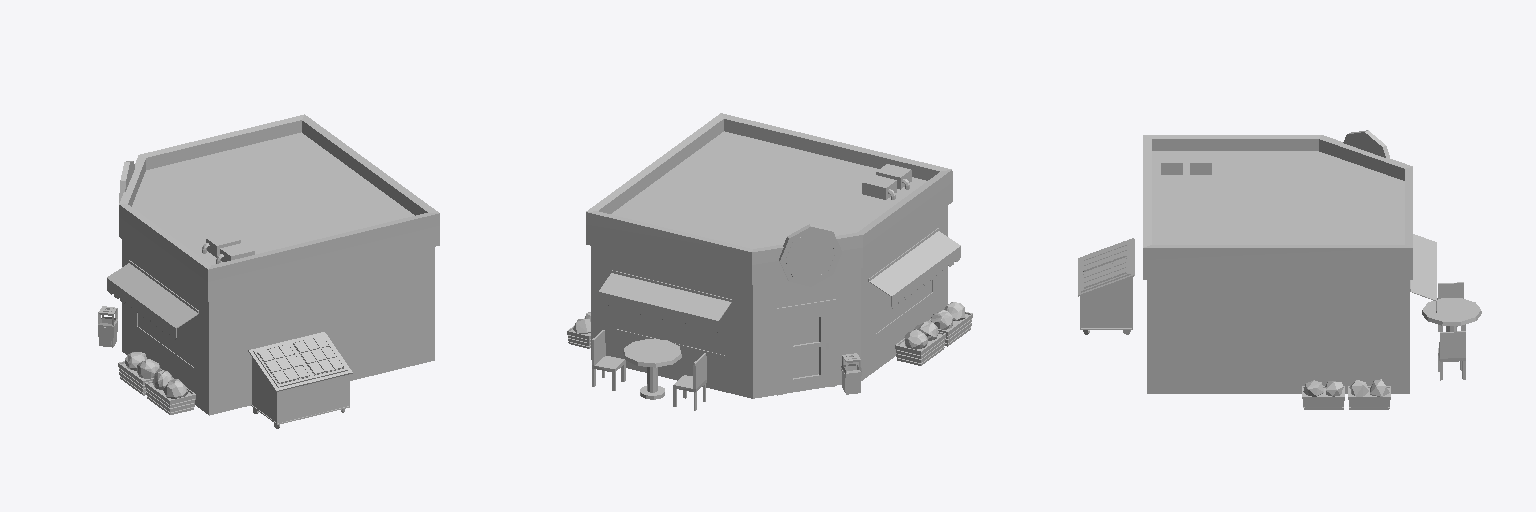
Rendered from caffe1.obj.
The picture shows the model from 3 angles: view 1: azimuth 30°, elevation 25°; view 2: azimuth 150°, elevation 25°; view 3: azimuth 270°, elevation 25°; orthographic projection.
Parts seen in each view (by area): view 1: Tetto.004, Casa, Dumpster, Tenda.004, Vasi_e_Cespugli.001, Bin.004, Cassetta2; view 2: Tetto.004, Casa, Tenda.003, Tenda.004, Logo, Vasi_e_Cespugli.001, Table, Chair2, Chair, Bin.004, Cassetta2, Cassetta; view 3: Tetto.004, Casa, Dumpster, Tenda.003, Table, Vasi_e_Cespugli.007, Chair2, Vasi_e_Cespugli.008, Logo, Cassetta, Cassetta2.
Boxes of the visible parts, x1,y1,x2,y2 form: Tetto.004: [119, 114, 439, 301]; Casa: [122, 240, 434, 415]; Dumpster: [248, 332, 352, 428]; Tenda.004: [107, 260, 198, 340]; Vasi_e_Cespugli.001: [118, 352, 195, 414]; Bin.004: [98, 306, 117, 347]; Cassetta2: [202, 232, 240, 257]; Tetto.004: [586, 113, 952, 284]; Casa: [591, 206, 947, 398]; Tenda.003: [598, 270, 731, 333]; Tenda.004: [868, 228, 960, 308]; Logo: [779, 224, 841, 286]; Vasi_e_Cespugli.001: [895, 302, 972, 365]; Table: [623, 339, 681, 399]; Chair2: [592, 330, 625, 390]; Chair: [673, 353, 706, 410]; Bin.004: [841, 353, 861, 394]; Cassetta2: [862, 174, 896, 199]; Cassetta: [876, 164, 911, 189]; Tetto.004: [1143, 135, 1412, 279]; Casa: [1147, 280, 1409, 393]; Dumpster: [1078, 238, 1134, 334]; Tenda.003: [1410, 234, 1436, 312]; Table: [1422, 298, 1481, 331]; Vasi_e_Cespugli.007: [1302, 386, 1390, 409]; Chair2: [1438, 331, 1465, 380]; Vasi_e_Cespugli.008: [1303, 379, 1389, 396]; Logo: [1343, 130, 1389, 157]; Cassetta: [1161, 151, 1182, 174]; Cassetta2: [1190, 151, 1211, 174].
Bounding box in the file's own units: 3.84 × 2.1 × 4.62.